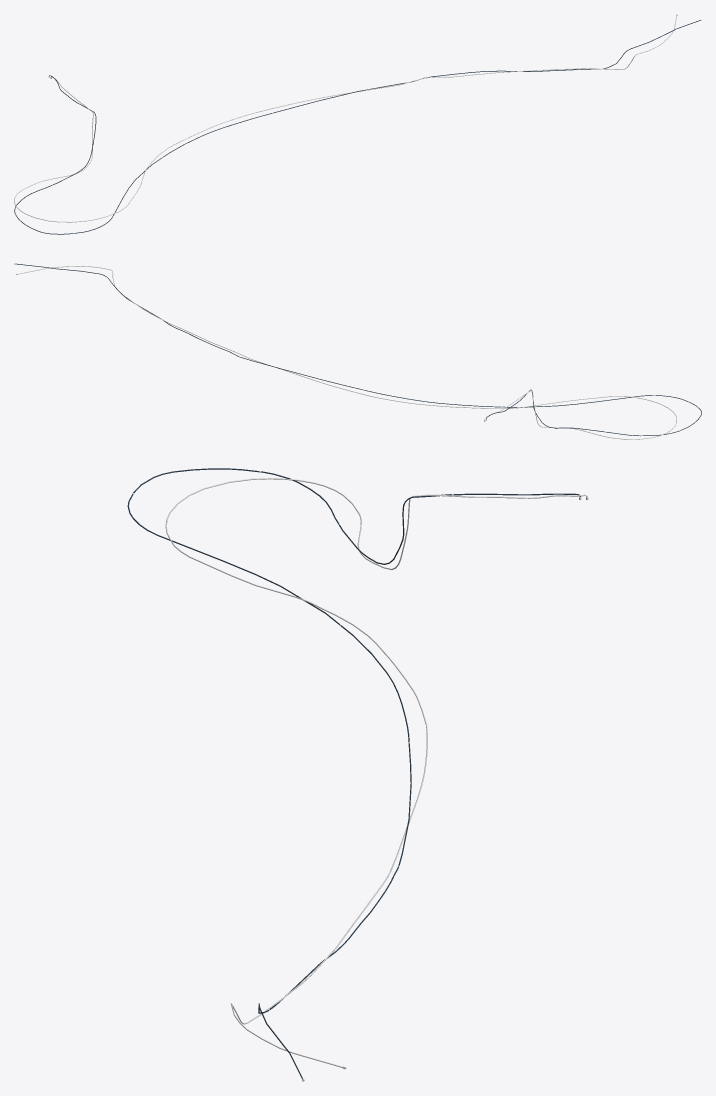
3 renders of one model, top to bottom at view 1: azimuth 30°, elevation 25°; view 2: azimuth 150°, elevation 25°; view 3: azimuth 270°, elevation 25°, orthographic. The views are drawn at different scales.
Visible parts, largest first — view 1: SM_H_Government_Office_Desk_01A; view 2: SM_H_Government_Office_Desk_01A; view 3: SM_H_Government_Office_Desk_01A.
Part boxes in pixels (box(x1,y1,x2,y2)): SM_H_Government_Office_Desk_01A: box(14, 14, 701, 234); SM_H_Government_Office_Desk_01A: box(14, 263, 701, 439); SM_H_Government_Office_Desk_01A: box(127, 468, 588, 1081).
Bounding box in the file's own units: 165 × 544 × 35.36.
